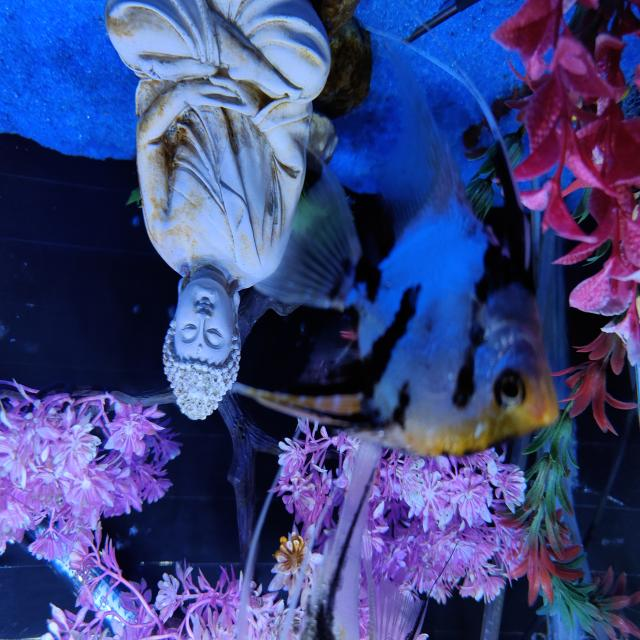Fish: (234, 84, 558, 454), (301, 441, 382, 639)
